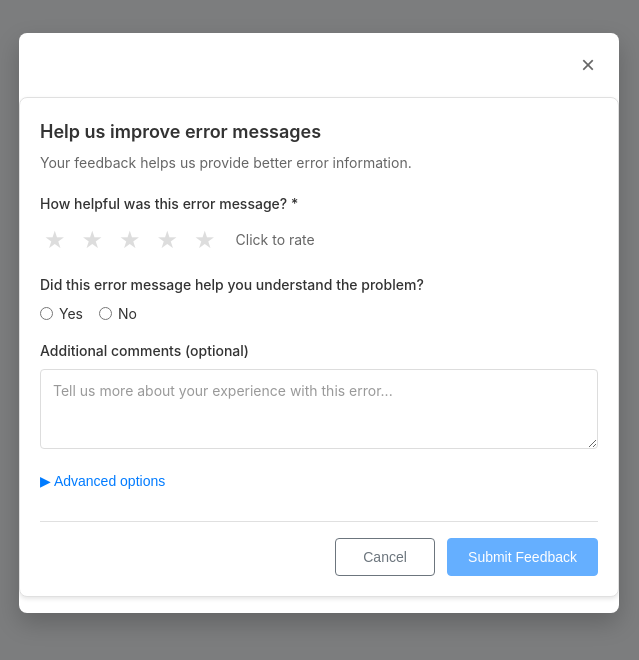
it: ErrorFeedbackModal › Feedback Submission › should handle submission failure
The image size is (639, 660).
Note: Fill out and submit form
Click the button named "Rate 1 stars" at [55, 240], box 40,222 -> 70,258
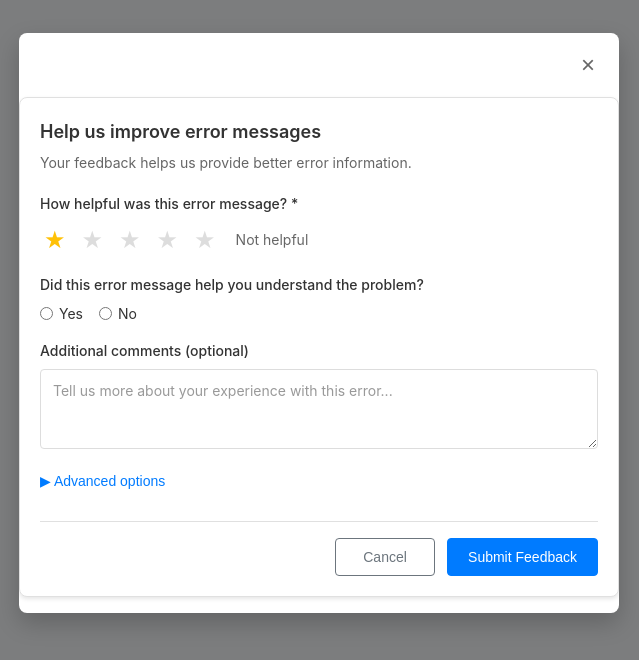
Click the button "Submit Feedback" at [522, 557], box 447,538 -> 598,576
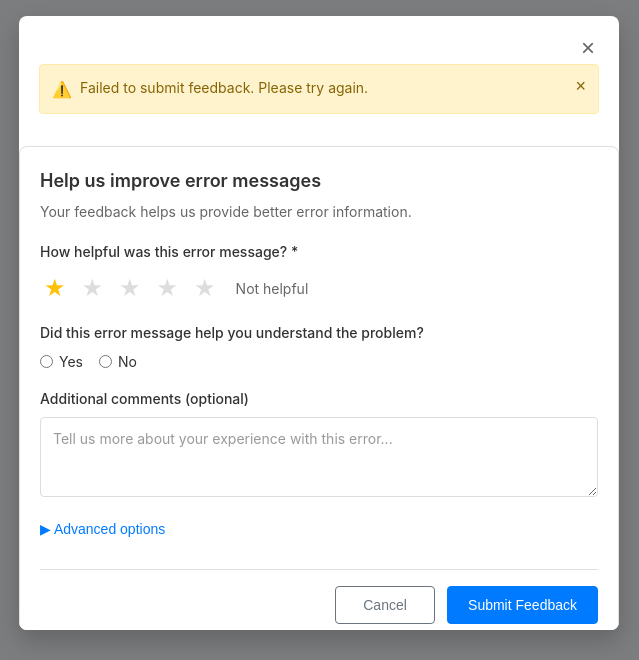
Expected: the text "Failed to submit feedback. Please try again." is shown, 80,79 -> 368,96
